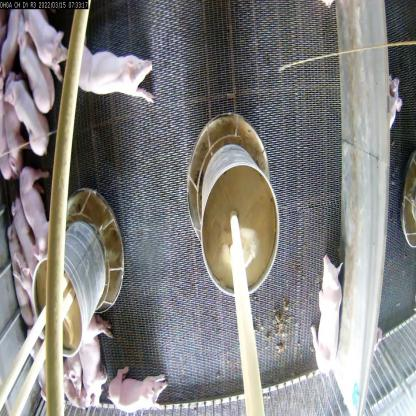Pig: (54, 30, 152, 99), (309, 248, 344, 386), (8, 24, 54, 107), (73, 310, 110, 413), (106, 359, 170, 415), (10, 65, 50, 146), (21, 0, 65, 72), (21, 148, 53, 245)
